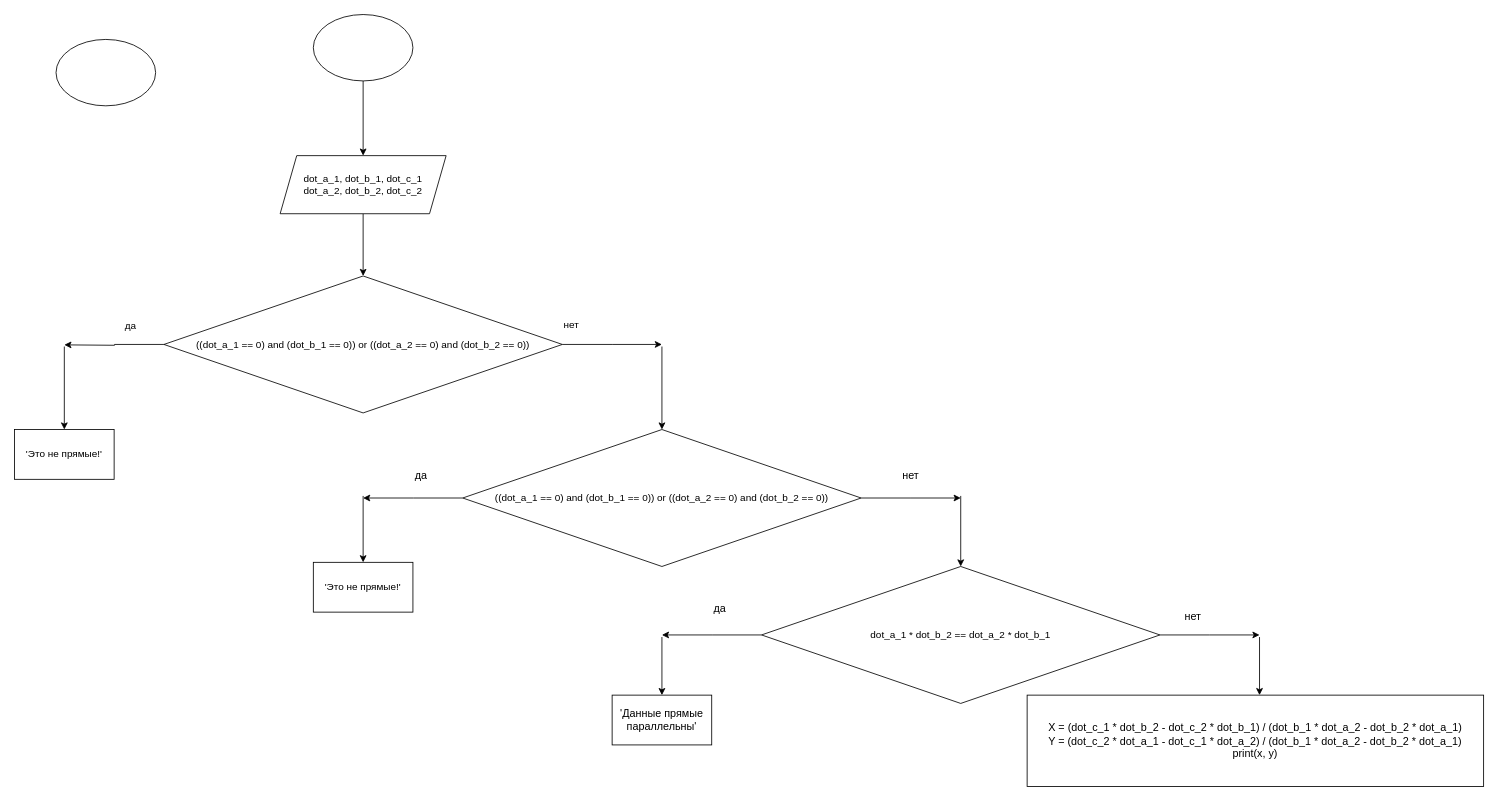
Image size: 1498x801. Some labels were removed from this diagram. Here are the shapes that lost their labels. From the top down, the box of each, then its label:
(312, 14, 413, 81): Начало
(55, 39, 156, 106): Конец
